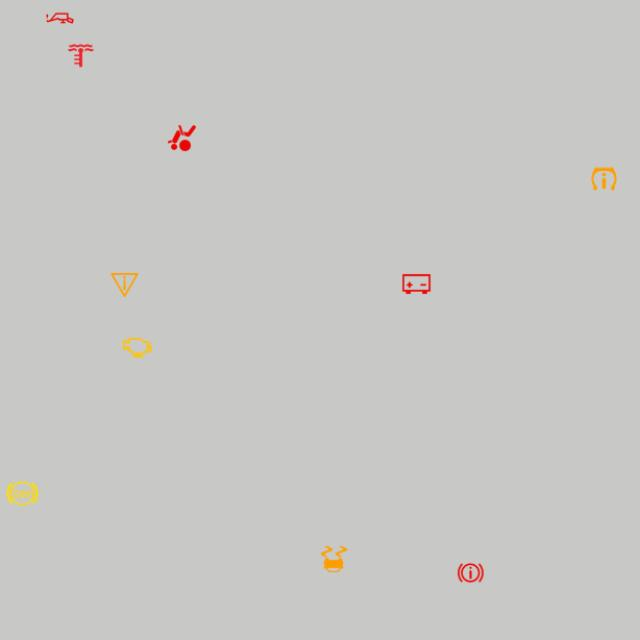Anti Lock Braking System: (6, 476, 40, 511)
Braking System Issue: (453, 556, 488, 590)
Charging System Issue: (399, 267, 434, 301)
Check Engine: (120, 330, 154, 364)
Electronic Stability Problem -ESP-: (317, 542, 351, 576)
Engine Overheating Warning Light: (64, 39, 98, 73)
Low Engine Oil Warning Light: (43, 1, 77, 35)
Low Tire Pressure Warning Light: (587, 162, 621, 196)
Master warning light: (108, 268, 142, 302)
SRS-Airbag: (165, 121, 199, 155)
